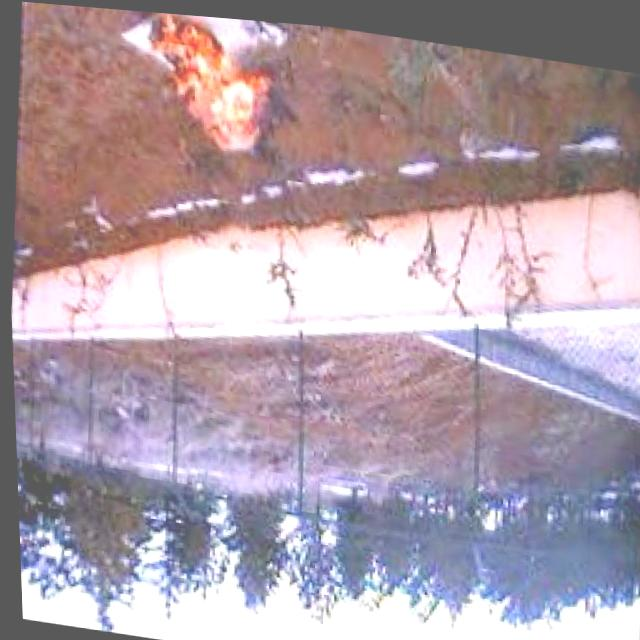Fire: (136, 9, 272, 150)
